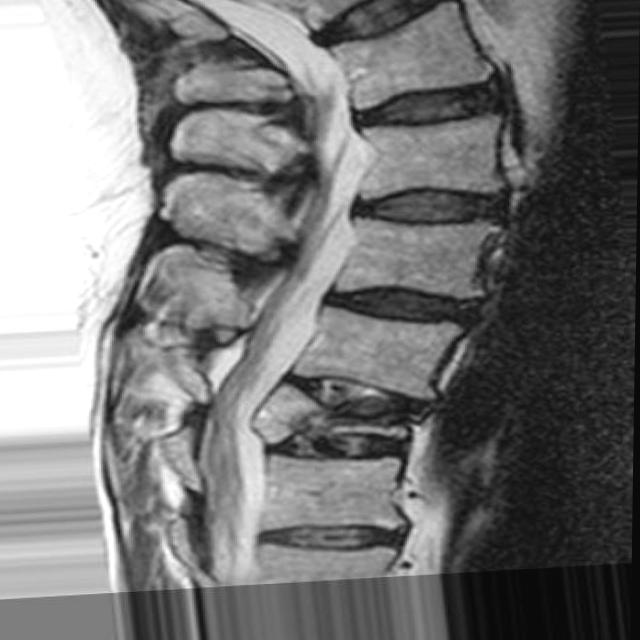Comminuted: (243, 365, 418, 464)
